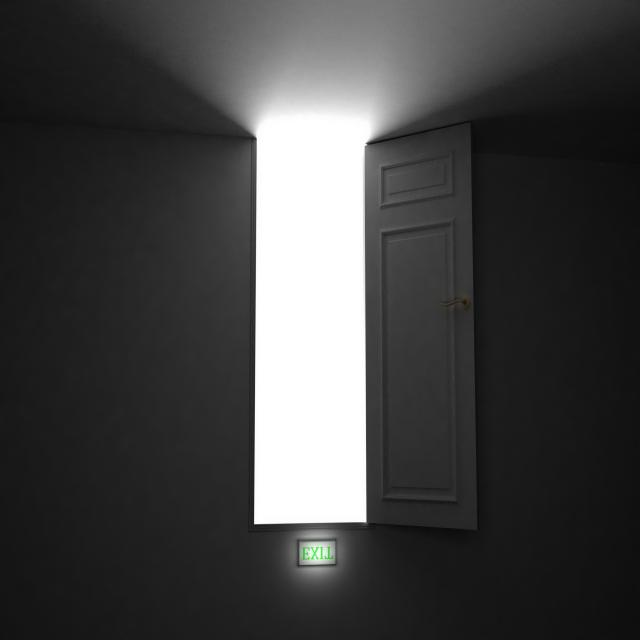open: (251, 124, 467, 528)
